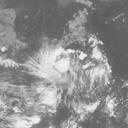cyclone: (41, 48, 85, 92)
